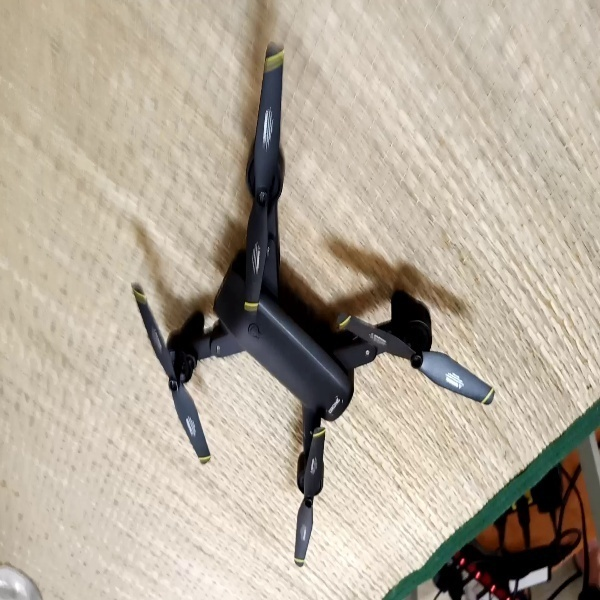drone: (130, 39, 496, 569)
